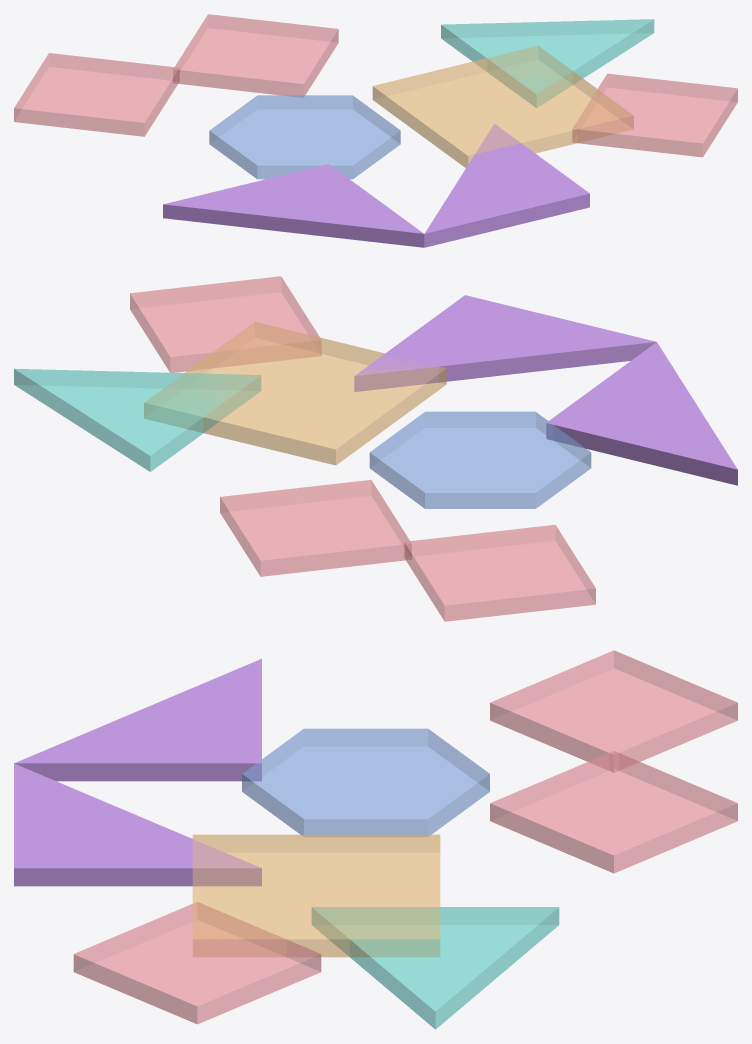
Rendered from elicottero_step7.glb.
The picture shows the model from 3 angles, top to bottom: view 1: azimuth 30°, elevation 25°; view 2: azimuth 150°, elevation 25°; view 3: azimuth 270°, elevation 25°; orthographic projection. The views are drawn at different scales.
Parts seen in each view (by area): view 1: quadrato_piccolo, esagono, triangolo_rettangolo, triangolo_isoscele_piccolo, rombo, triangolo_rettangolo.001, rombo.002, rombo.001; view 2: quadrato_piccolo, esagono, triangolo_rettangolo.001, triangolo_isoscele_piccolo, rombo, rombo.001, triangolo_rettangolo, rombo.002; view 3: quadrato_piccolo, esagono, triangolo_rettangolo.001, rombo.002, rombo.001, rombo, triangolo_isoscele_piccolo, triangolo_rettangolo.
Boxes of the visible parts, box(x1,y1,x2,y2) form: quadrato_piccolo: box(372, 46, 633, 167); esagono: box(209, 95, 400, 179); triangolo_rettangolo: box(163, 164, 424, 247); triangolo_isoscele_piccolo: box(441, 19, 654, 107); rombo: box(14, 53, 179, 136); triangolo_rettangolo.001: box(424, 124, 589, 247); rombo.002: box(572, 73, 737, 157); rombo.001: box(173, 14, 338, 97); quadrato_piccolo: box(144, 322, 446, 465); esagono: box(369, 411, 591, 508); triangolo_rettangolo.001: box(354, 295, 656, 391); triangolo_isoscele_piccolo: box(14, 368, 260, 471); rombo: box(404, 524, 595, 621); rombo.001: box(220, 480, 411, 576); triangolo_rettangolo: box(546, 342, 737, 485); rombo.002: box(130, 276, 321, 372); quadrato_piccolo: box(192, 834, 440, 957); esagono: box(242, 728, 489, 836); triangolo_rettangolo.001: box(14, 763, 261, 886); rombo.002: box(73, 902, 321, 1024); rombo.001: box(490, 751, 737, 873); rombo: box(490, 650, 737, 772); triangolo_isoscele_piccolo: box(312, 907, 559, 1029); triangolo_rettangolo: box(14, 658, 261, 781).
Bounding box in the file's own units: 3.45 × 0.08 × 2.92.
